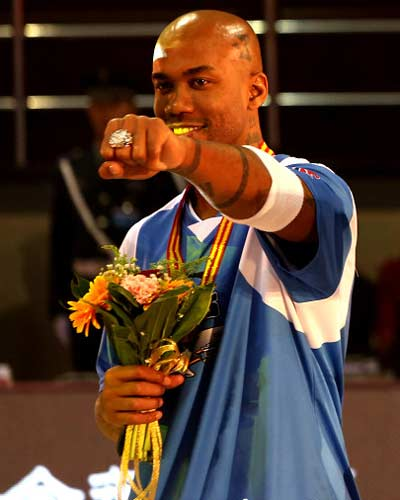face: (150, 32, 243, 168)
